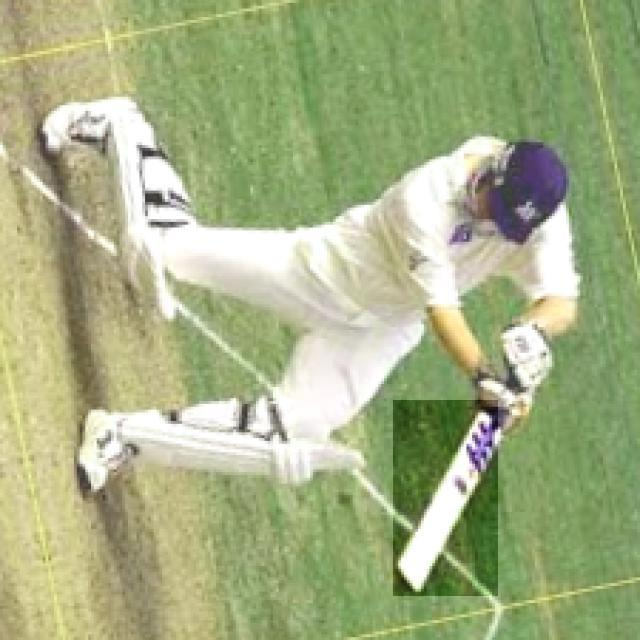bat: (396, 400, 495, 598)
toe: (392, 566, 422, 598)
